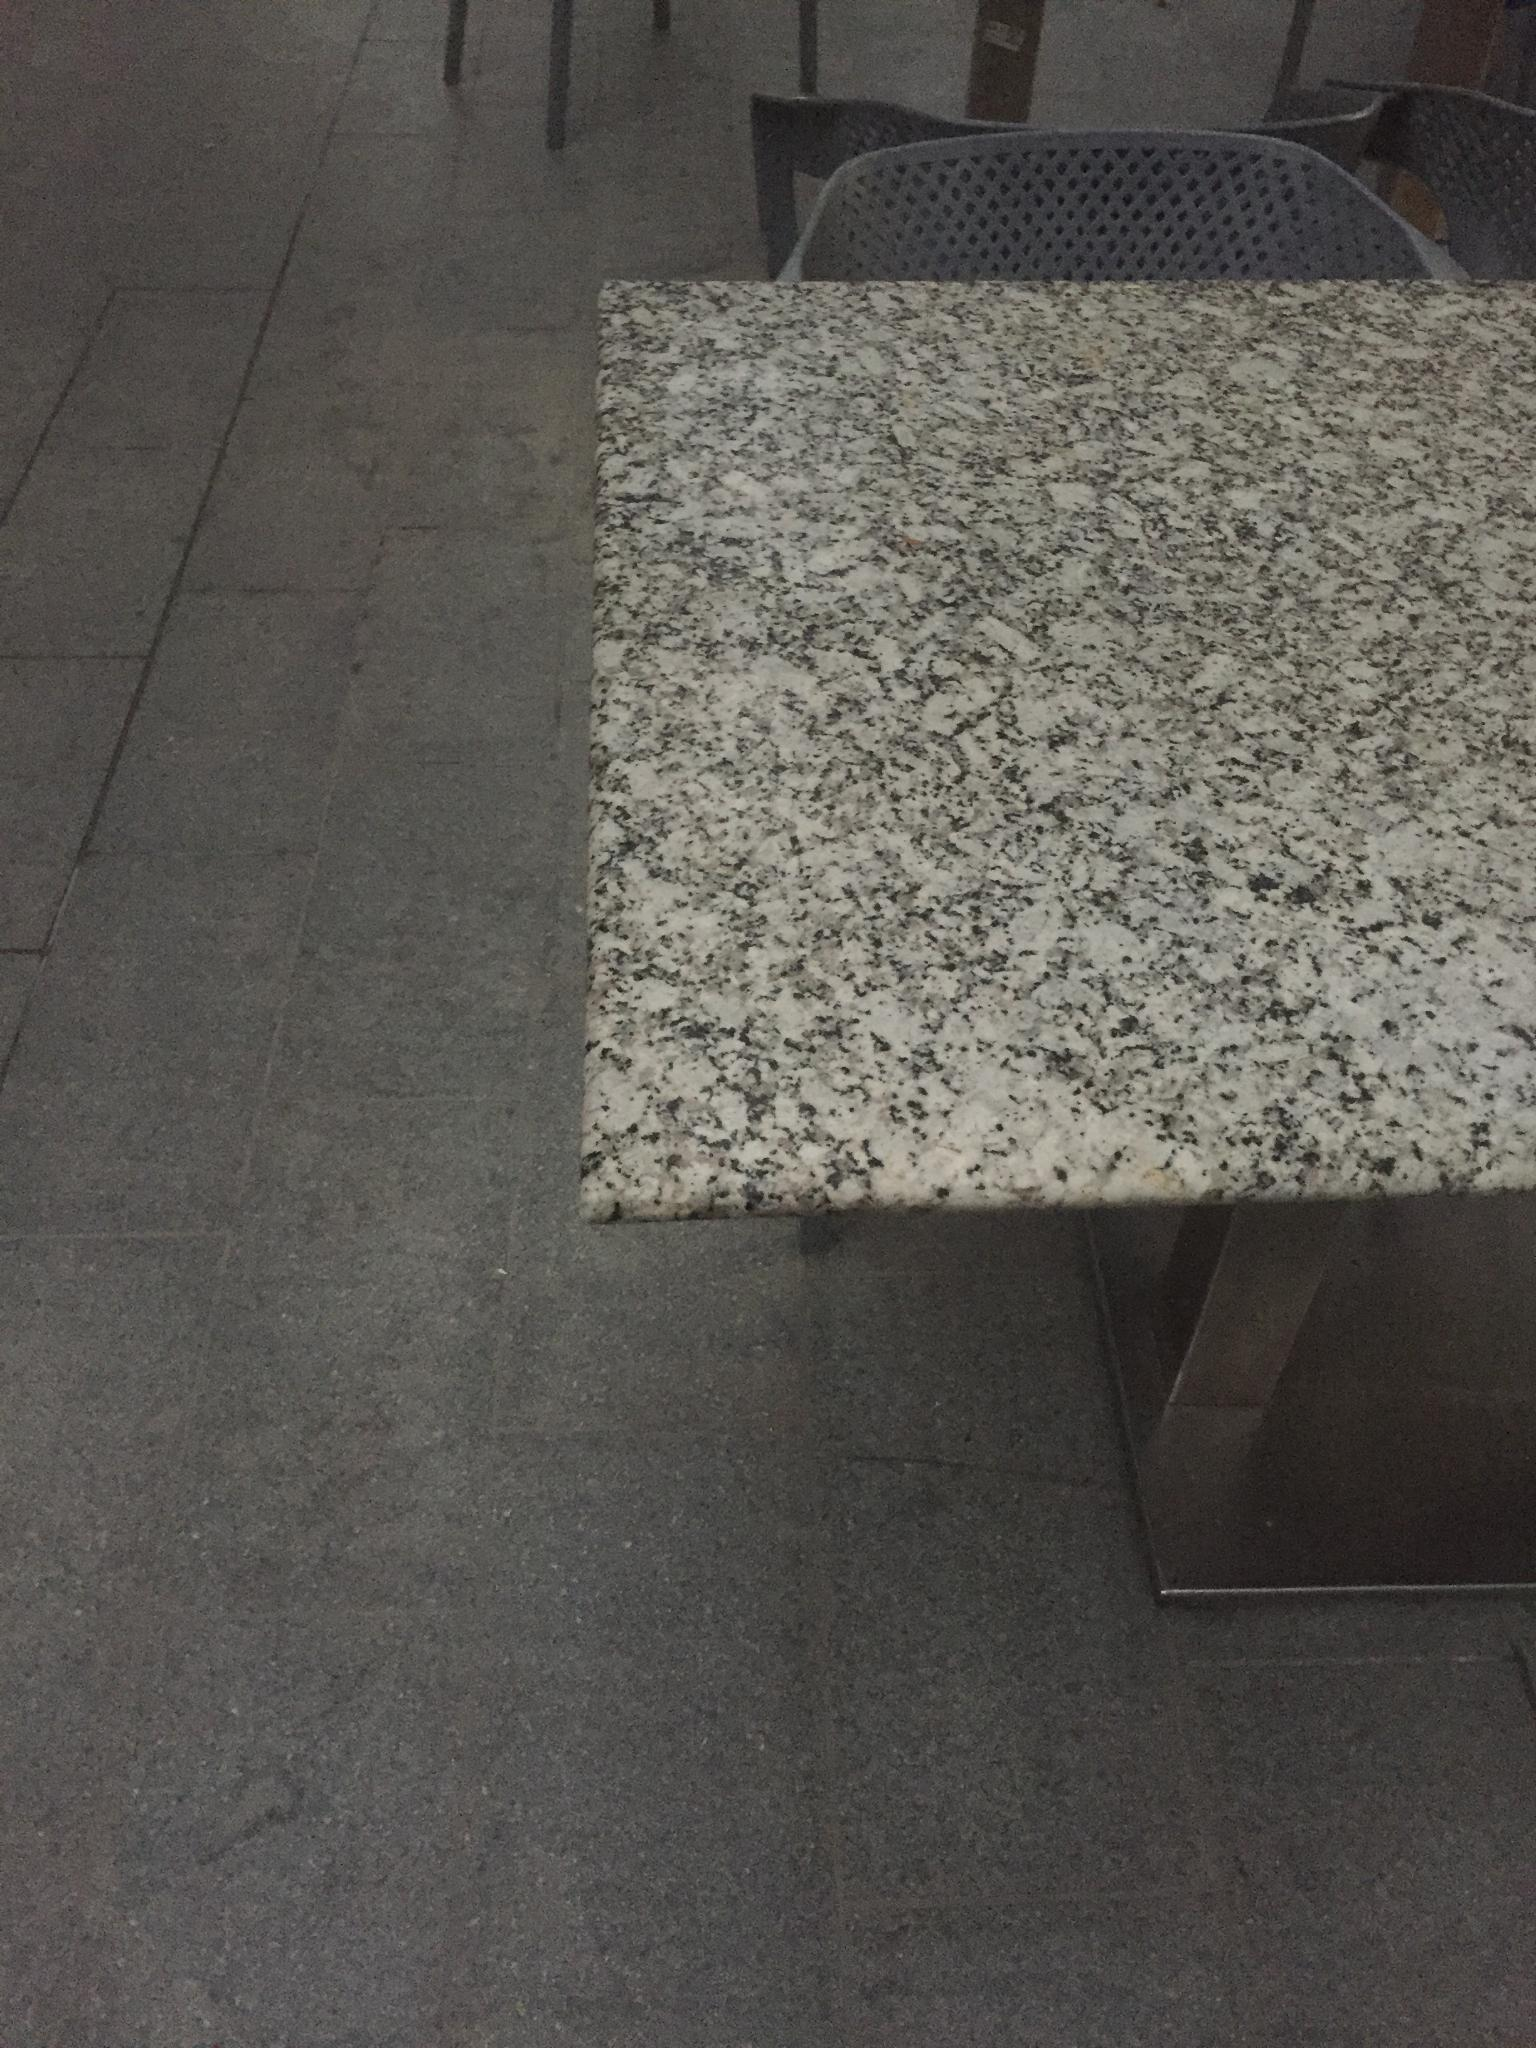chair: (776, 127, 1470, 282), (1286, 42, 1536, 319), (729, 73, 989, 319)
